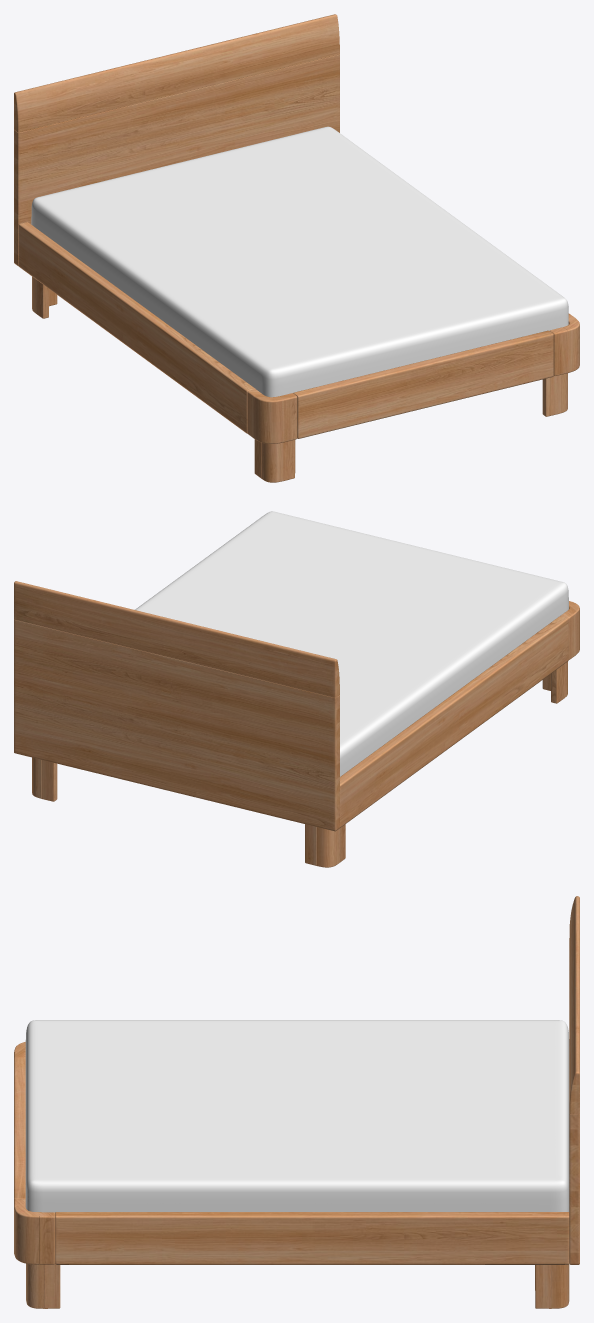
File: abo_B07K7NXVXR.glb
3 views of the same model, one above another, from view 1: azimuth 30°, elevation 25°; view 2: azimuth 150°, elevation 25°; view 3: azimuth 270°, elevation 25° (orthographic). The views are drawn at different scales.
Parts seen in each view (by area): view 1: RootNode; view 2: RootNode; view 3: RootNode.
Boxes of the visible parts, left/top/right/bottom form: RootNode: left=14, top=14, right=579, bottom=482; RootNode: left=14, top=511, right=579, bottom=867; RootNode: left=14, top=896, right=579, bottom=1308.
Size of the model in its own units: 1.47 by 0.9398 by 1.99.
1 material, 1 textured.
